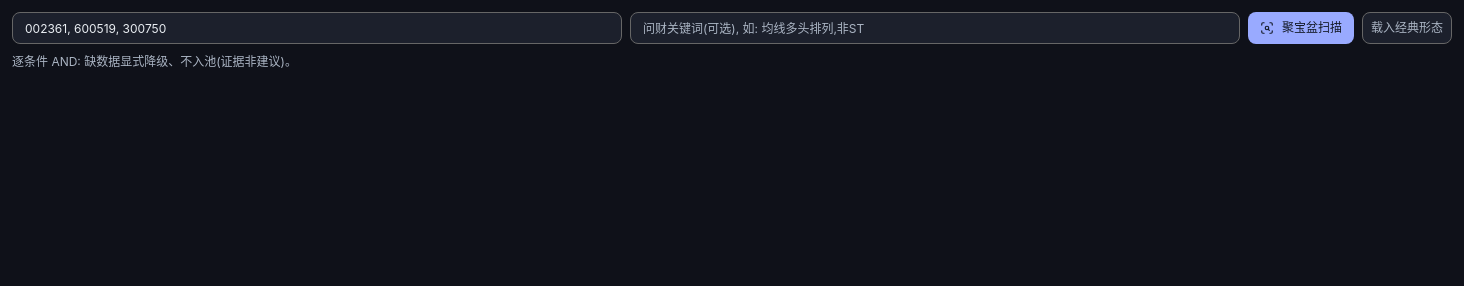
Test: JbpPoolTable 强度徽章(2026-10-11 影子运行) › 有标签出行内徽章, 无标签不出
Click the button "聚宝盆扫描". click: [1301, 28]
box: x1=1248 y1=12 x2=1354 y2=44
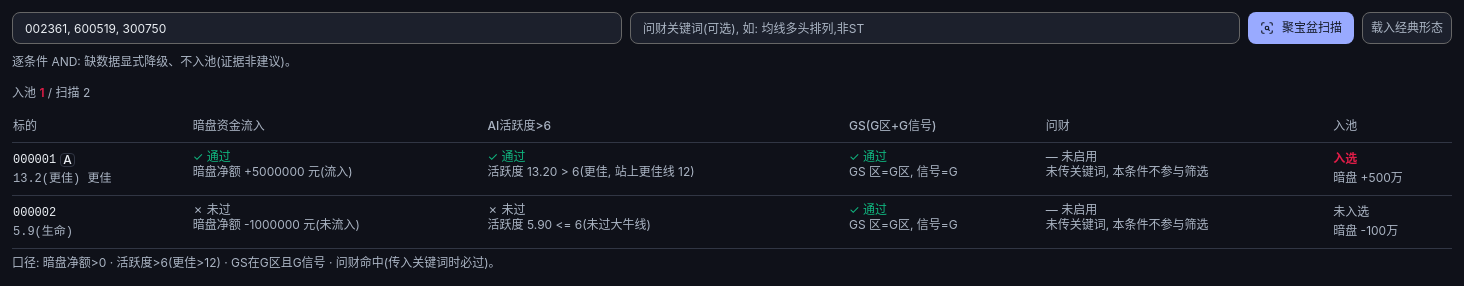
Check: the text "A" is shown, box x1=60 y1=153 x2=75 y2=167
Check: the text with test id "jbp-strength-000001" reads "A", box x1=63 y1=152 x2=72 y2=167
